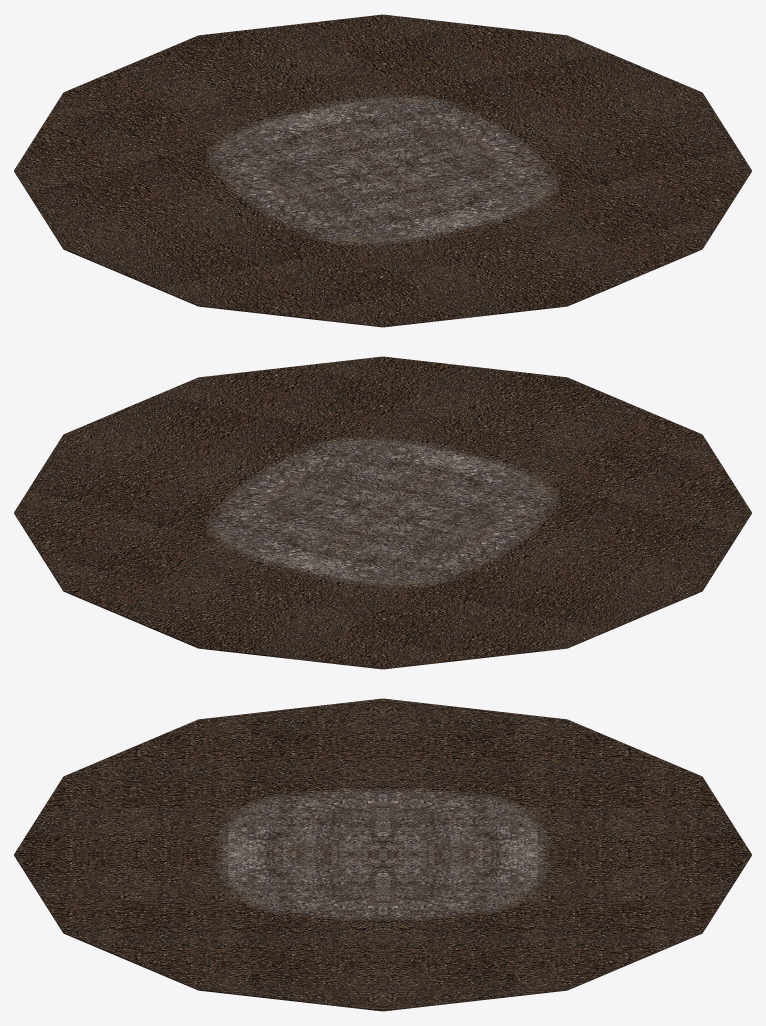
File: City_Base_0222.FBX
3 views of the same model, one above another, from view 1: azimuth 30°, elevation 25°; view 2: azimuth 150°, elevation 25°; view 3: azimuth 270°, elevation 25° (orthographic).
Visible parts, largest first — view 1: Cylinder002; view 2: Cylinder002; view 3: Cylinder002.
Part boxes in pixels (bbox=[...]): Cylinder002: bbox=[14, 14, 751, 327]; Cylinder002: bbox=[14, 356, 751, 669]; Cylinder002: bbox=[14, 698, 751, 1011].
Bounding box in the file's own units: 6000 × 10 × 6000.
Materials: 1 (1 with a texture image).
